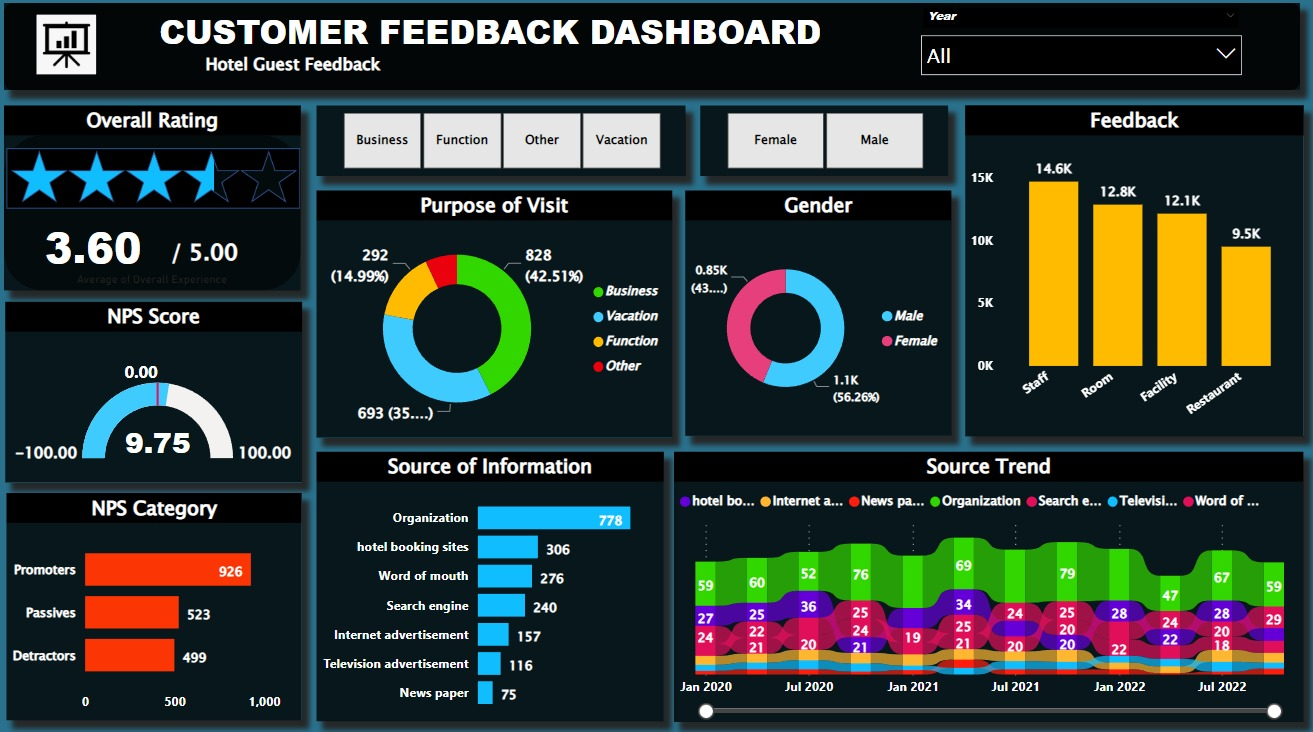

What the dashboard file says about the page in this screenshot:
{"tool":"powerbi","page":{"name":"Page 1","canvas":[1280,720],"ordinal":0},"visuals":[{"type":"shape","box":[15,15,1250,84],"z":0},{"type":"slicer","fields":{"Values":["General.Purpose"]},"box":[315.6,113.9,357,69],"z":1000},{"type":"slicer","fields":{"Values":["General.Gender"]},"box":[686.1,113.9,240.1,69],"z":2000},{"type":"gauge","fields":{"Y":["General.NPS Score"]},"box":[15.9,303.2,286,174],"z":3000},{"type":"clusteredBarChart","title":"NPS Category","fields":{"Category":["General.NPS"],"Y":["CountNonNull(General.NPS)"]},"box":[16.5,487.1,285,219.6],"z":4000},{"type":"donutChart","title":"Purpose of Visit","fields":{"Category":["General.Purpose"],"Y":["CountNonNull(General.Purpose)"]},"box":[315.4,195.6,345.9,237],"z":5000},{"type":"donutChart","title":"Gender ","fields":{"Category":["General.Gender"],"Y":["CountNonNull(General.Gender)"]},"box":[672.3,195.6,256,237],"z":6000},{"type":"clusteredBarChart","title":"Source of Information","fields":{"Category":["General.Source"],"Y":["CountNonNull(General.Source)"]},"box":[315.4,447.4,334.9,260.4],"z":7000},{"type":"ribbonChart","title":"Source Trend","fields":{"Category":["General.Checkout Date (bins)"],"Series":["General.Source"],"Y":["CountNonNull(General.Source)"]},"box":[661.3,447.4,607.5,261],"z":8000},{"type":"clusteredColumnChart","title":"Feedback","fields":{"Category":["Feedback.Feedback Category","Feedback.Feedback"],"Y":["Sum(Feedback.Rating Score)"]},"box":[942.5,113.7,326.4,319],"z":9000},{"type":"shape","title":"Overall Rating","box":[14.7,113.7,286,178],"z":10000},{"type":"textbox","box":[169.9,233.5,112.5,46.5],"z":11000},{"type":"card","fields":{"Values":["Avg(General.Overall Experience)"]},"box":[15.9,211.5,169.9,77],"z":12000},{"type":"clusteredBarChart","fields":{"Y":["Avg(General.Overall Experience)"]},"box":[17.1,80.7,281.2,211.5],"z":13000},{"type":"image","box":[41.6,19.6,67.2,69.7],"z":14000},{"type":"textbox","box":[158.9,14.7,705.3,62.3],"z":15000},{"type":"textbox","box":[204.1,56.2,199.3,45],"z":16000},{"type":"slicer","fields":{"Values":["General.Checkout Date.Variation.Date Hierarchy.Year"]},"box":[888.7,14.7,330.1,74.6],"z":17000},{"type":"image","box":[12,90,293,186],"z":18000}]}

Visuals, with their boxes in screenshot pixels (x1, y1, x2, y2), scaled from the page's 1280x720 canvas onto the 1313x732 screenshot:
shape: region(15, 15, 1298, 101)
slicer - General.Purpose: region(324, 116, 690, 186)
slicer - General.Gender: region(704, 116, 950, 186)
gauge - General.NPS Score: region(16, 308, 310, 485)
"NPS Category" clusteredBarChart: region(17, 495, 309, 718)
"Purpose of Visit" donutChart: region(324, 199, 678, 440)
"Gender " donutChart: region(690, 199, 952, 440)
"Source of Information" clusteredBarChart: region(324, 455, 667, 720)
"Source Trend" ribbonChart: region(678, 455, 1302, 720)
"Feedback" clusteredColumnChart: region(967, 116, 1302, 440)
"Overall Rating" shape: region(15, 116, 308, 297)
textbox: region(174, 237, 290, 285)
card - Avg(General.Overall Experience): region(16, 215, 191, 293)
clusteredBarChart - Avg(General.Overall Experience): region(18, 82, 306, 297)
image: region(43, 20, 112, 91)
textbox: region(163, 15, 886, 78)
textbox: region(209, 57, 414, 103)
slicer - General.Checkout Date.Variation.Date Hierarchy.Year: region(912, 15, 1250, 91)
image: region(12, 92, 313, 281)
